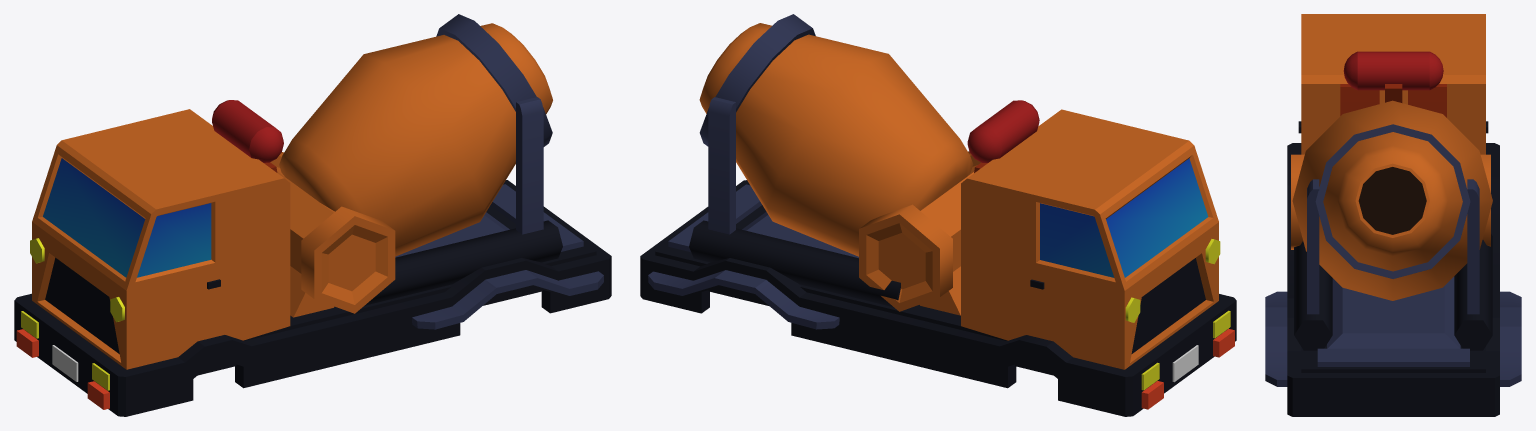
File: Truck1.FBX
3 renders of one model, left to right at view 1: azimuth 30°, elevation 25°; view 2: azimuth 150°, elevation 25°; view 3: azimuth 270°, elevation 25°, orthographic. The views are drawn at different scales.
Parts seen in each view (by area): view 1: Truck1; view 2: Truck1; view 3: Truck1.
Part boxes in pixels (left/top/right/bottom): Truck1: left=14, top=14, right=611, bottom=416; Truck1: left=640, top=14, right=1236, bottom=416; Truck1: left=1265, top=14, right=1521, bottom=416.
Size of the model in its own units: 110 by 54.28 by 50.01.
